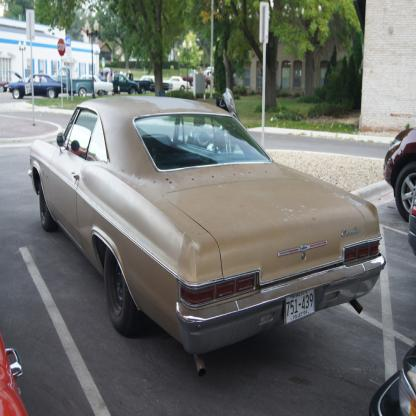Car: (30, 93, 388, 381), (1, 74, 211, 103)
